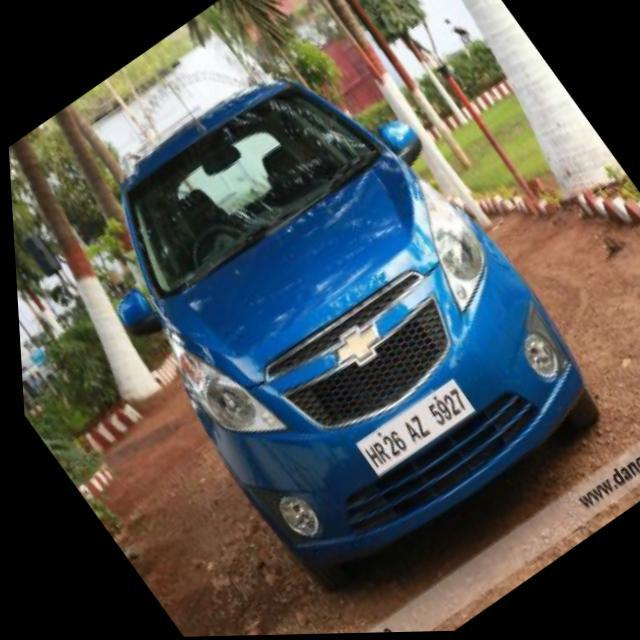license_plate: (323, 360, 492, 510)
